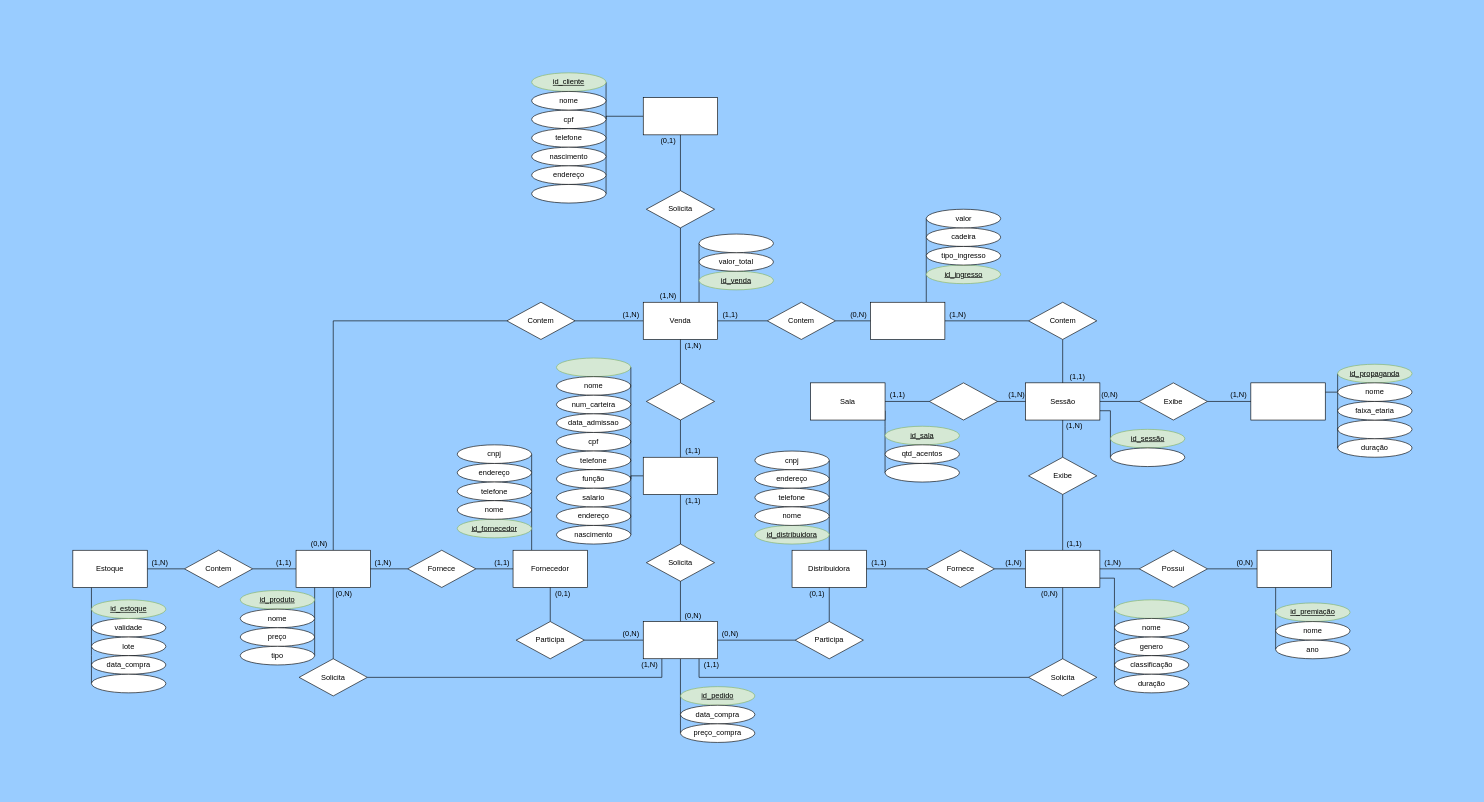
Image size: 1484x802. Some labels were removed from this diagram. Here are the shapes that lost their labels. From the top down, the box of each, then its label:
(643, 97, 718, 135): Cliente
(531, 184, 606, 203): email
(698, 233, 773, 253): data
(870, 302, 945, 339): Ingresso
(556, 357, 631, 377): id_funcionario
(646, 382, 715, 420): Realiza
(929, 382, 998, 420): Indica
(1250, 382, 1325, 420): Propaganda
(1337, 419, 1412, 439): agencia
(643, 457, 718, 494): Funcionario
(884, 463, 959, 482): tipo_tela
(1110, 447, 1185, 467): horario
(295, 550, 370, 587): Produto
(1025, 550, 1100, 587): Filme
(1256, 550, 1331, 587): Premiação
(1114, 599, 1189, 618): id_filme
(643, 621, 718, 659): Compra
(91, 674, 166, 693): qtd
